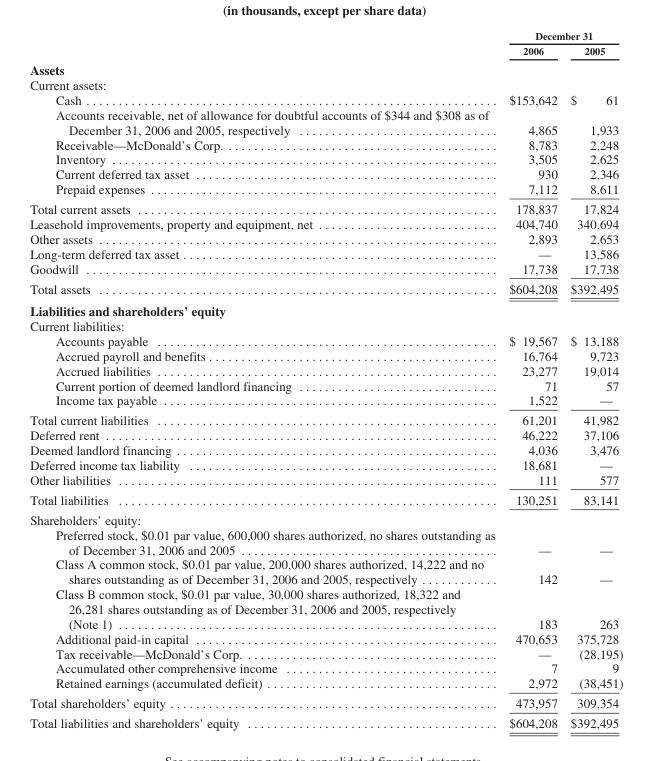table: (29, 29, 622, 730)
table column: (29, 29, 501, 730), (501, 29, 563, 730), (563, 29, 622, 730)
table column header: (29, 29, 622, 59)
table projected row header: (29, 299, 622, 318), (29, 59, 622, 77), (29, 509, 622, 526), (29, 77, 622, 92), (29, 318, 622, 333)
table row: (29, 586, 622, 630), (29, 526, 622, 556), (29, 556, 622, 586), (29, 107, 622, 136), (29, 278, 622, 299), (29, 489, 622, 509), (29, 692, 622, 712), (29, 299, 622, 318), (29, 59, 622, 77), (29, 198, 622, 216), (29, 260, 622, 278), (29, 392, 622, 410), (29, 712, 622, 730), (29, 42, 622, 59), (29, 181, 622, 198), (29, 410, 622, 427), (29, 472, 622, 489), (29, 509, 622, 526), (29, 675, 622, 692), (29, 77, 622, 92), (29, 92, 622, 107), (29, 136, 622, 151), (29, 151, 622, 166), (29, 166, 622, 181), (29, 216, 622, 231), (29, 245, 622, 260), (29, 318, 622, 333), (29, 333, 622, 348), (29, 362, 622, 377), (29, 377, 622, 392), (29, 427, 622, 442), (29, 442, 622, 457), (29, 457, 622, 472), (29, 630, 622, 645), (29, 645, 622, 660), (29, 660, 622, 675), (29, 231, 622, 245), (29, 348, 622, 362), (29, 29, 622, 42)
table spanning cell: (501, 29, 622, 42)
